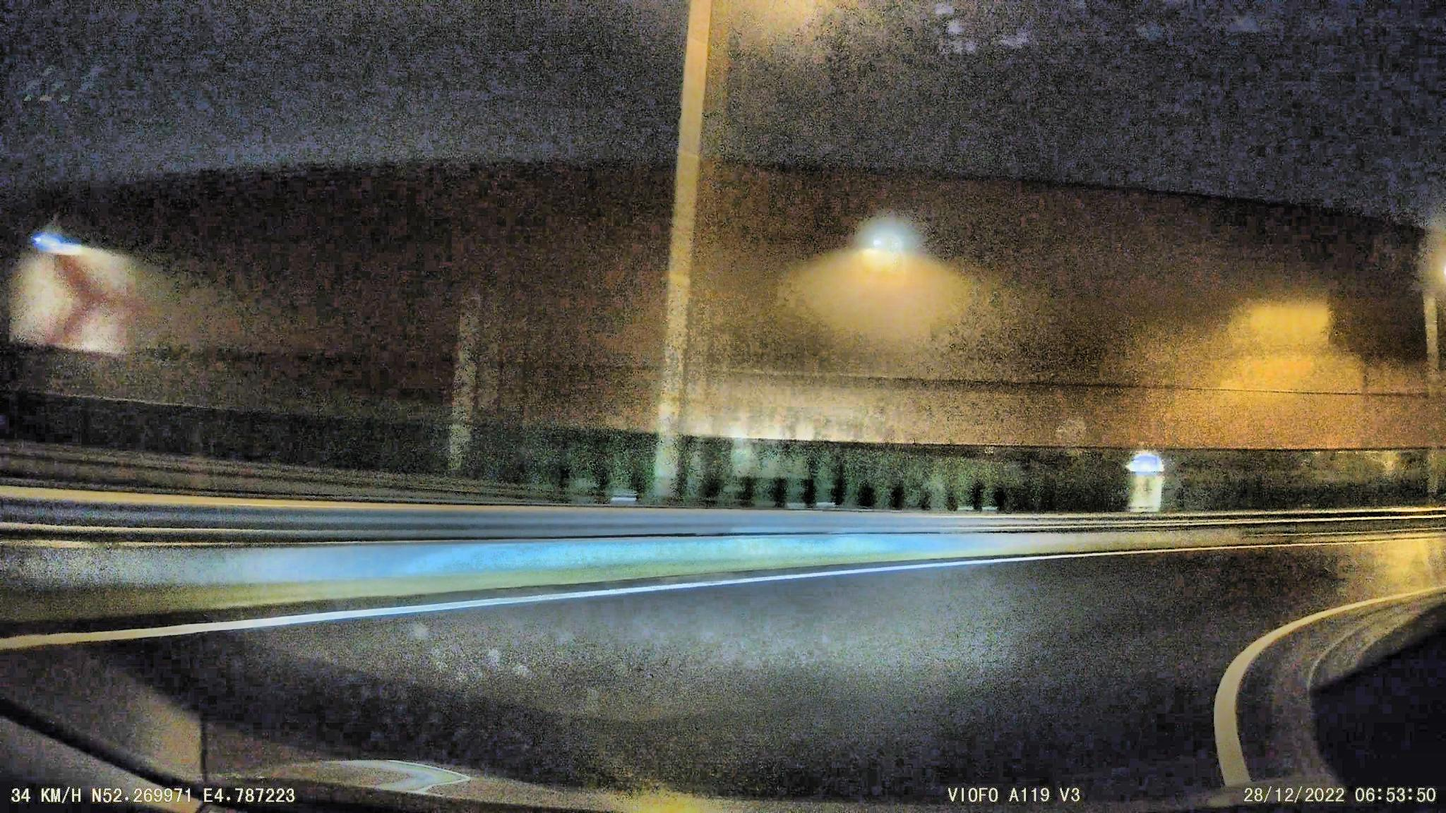Roads: (98, 544, 1446, 797)
